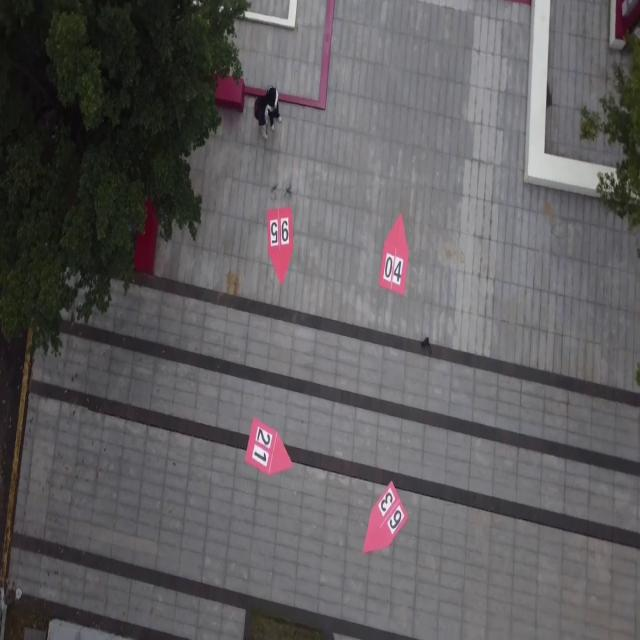-sign-: (363, 480, 409, 554), (245, 418, 293, 478), (379, 214, 410, 298), (266, 204, 293, 286)
